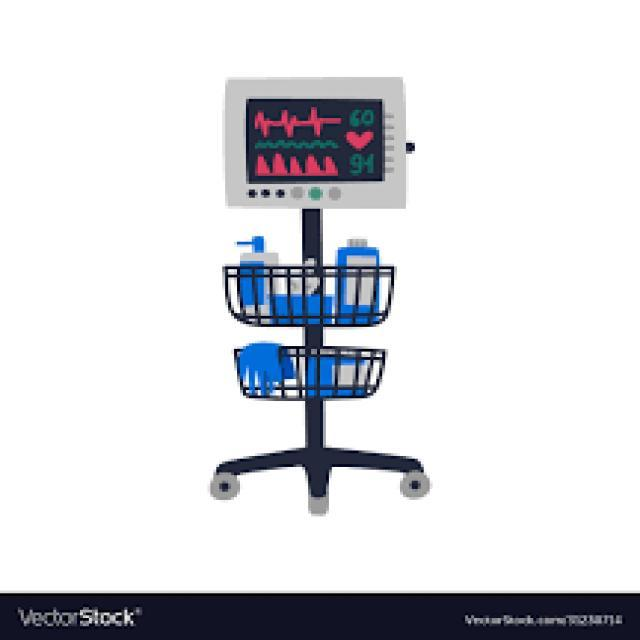cardiac_monitor: (222, 70, 416, 217)
